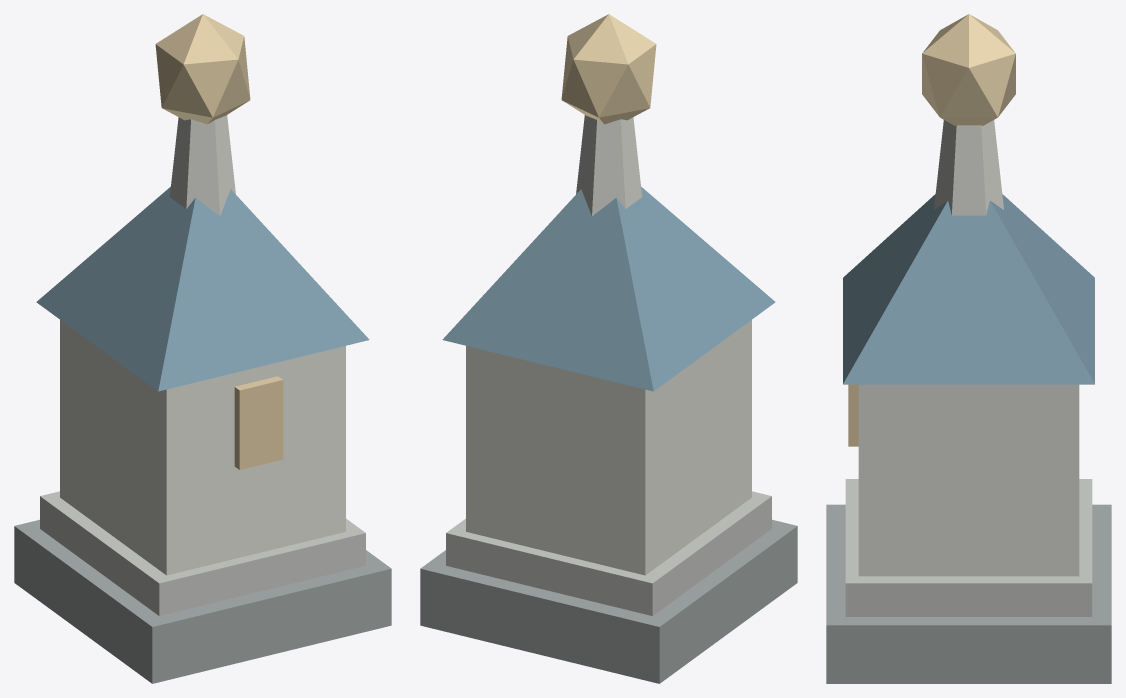
The model's file is human_temple_t1.glb.
3 views of the same model, side by side, from view 1: azimuth 30°, elevation 25°; view 2: azimuth 150°, elevation 25°; view 3: azimuth 270°, elevation 25° (orthographic). The views are drawn at different scales.
Parts seen in each view (by area): view 1: human_temple_t1_MAT_light, human_temple_t1_MAT_roof, human_temple_t1_MAT_dark, human_temple_t1_MAT_stone, human_temple_t1_MAT_gold; view 2: human_temple_t1_MAT_light, human_temple_t1_MAT_roof, human_temple_t1_MAT_dark, human_temple_t1_MAT_stone, human_temple_t1_MAT_gold; view 3: human_temple_t1_MAT_light, human_temple_t1_MAT_roof, human_temple_t1_MAT_dark, human_temple_t1_MAT_stone, human_temple_t1_MAT_gold.
Part boxes in pixels (x1,y1,x2,y2): human_temple_t1_MAT_light: (60,115,345,575); human_temple_t1_MAT_roof: (36,186,369,391); human_temple_t1_MAT_dark: (14,519,391,683); human_temple_t1_MAT_stone: (40,491,365,615); human_temple_t1_MAT_gold: (155,14,283,469); human_temple_t1_MAT_light: (466,115,751,575); human_temple_t1_MAT_roof: (442,186,775,391); human_temple_t1_MAT_dark: (420,519,797,683); human_temple_t1_MAT_stone: (446,491,771,615); human_temple_t1_MAT_gold: (561,14,656,124); human_temple_t1_MAT_light: (858,120,1079,576); human_temple_t1_MAT_roof: (843,194,1094,384); human_temple_t1_MAT_dark: (826,504,1111,683); human_temple_t1_MAT_stone: (845,479,1092,616); human_temple_t1_MAT_gold: (848,14,1015,446).
Bounding box in the file's own units: 0.88 × 2.07 × 0.88.
